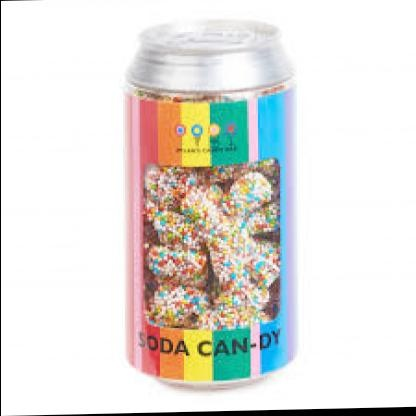trash: (127, 20, 292, 382)
